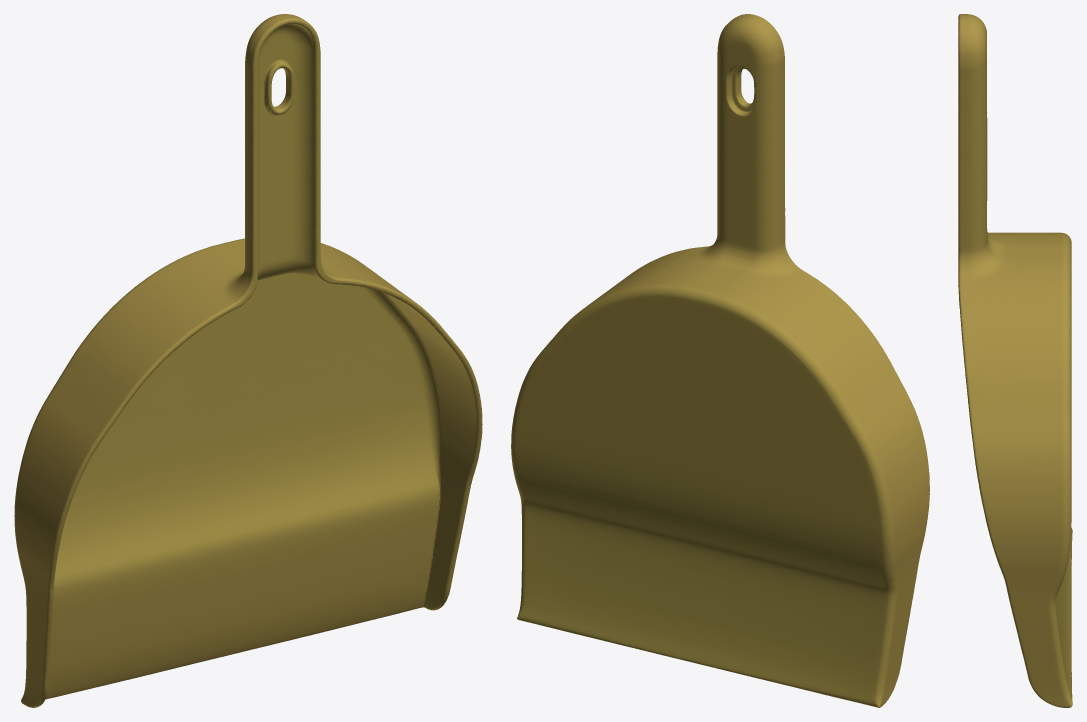
File: broom_shovel_visual.glb
The picture shows the model from 3 angles, left to right: view 1: azimuth 30°, elevation 25°; view 2: azimuth 150°, elevation 25°; view 3: azimuth 270°, elevation 25°; orthographic projection. The views are drawn at different scales.
Visible parts, largest first — view 1: m0; view 2: m0; view 3: m0.
Part boxes in pixels (x1,y1,x2,y2): m0: (14,14,482,707); m0: (511,14,929,707); m0: (958,14,1072,707).
Bounding box in the file's own units: 0.184 × 0.28 × 0.048.
Materials: 1 (1 with a texture image).
